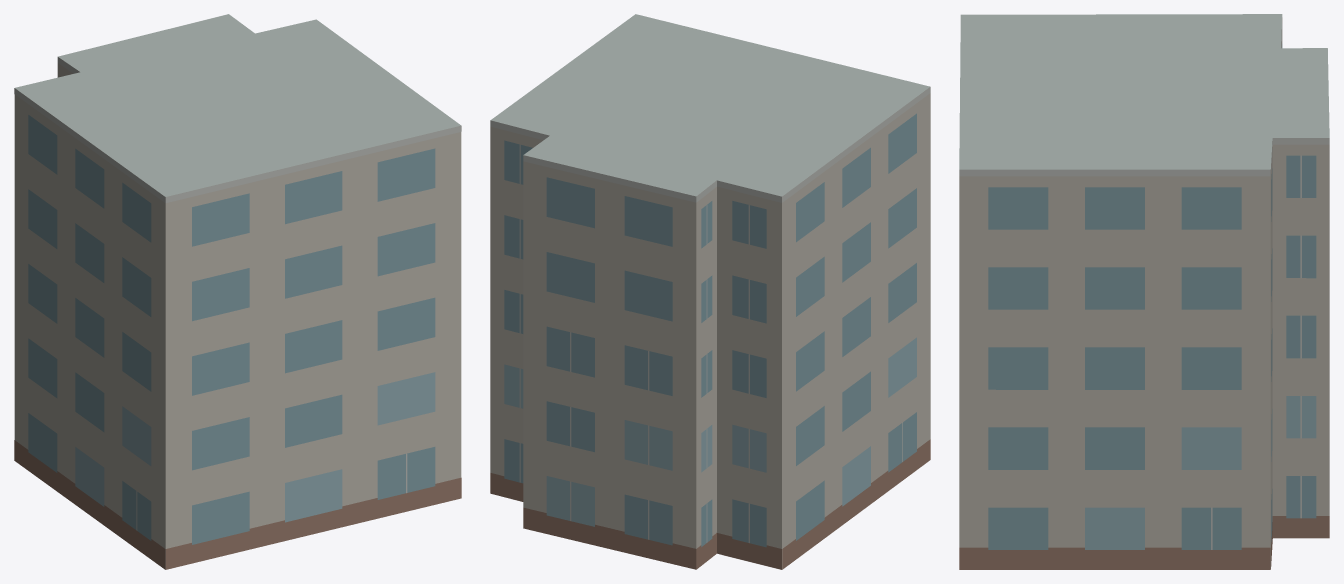
The model's file is survey-upis-32619824.glb.
3 renders of one model, left to right at view 1: azimuth 30°, elevation 25°; view 2: azimuth 150°, elevation 25°; view 3: azimuth 270°, elevation 25°, orthographic. The views are drawn at different scales.
Visible parts, largest first — view 1: survey-upis-32619824.tmp; view 2: survey-upis-32619824.tmp; view 3: survey-upis-32619824.tmp.
Part boxes in pixels (x1,y1,x2,y2): survey-upis-32619824.tmp: [14, 14, 461, 569]; survey-upis-32619824.tmp: [490, 14, 930, 569]; survey-upis-32619824.tmp: [959, 14, 1329, 569].
Size of the model in its own units: 12.16 by 14.58 by 12.24.
